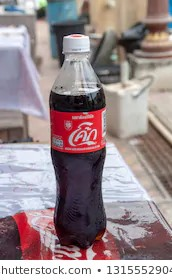coke-bottle-700ml: (51, 29, 106, 246)
